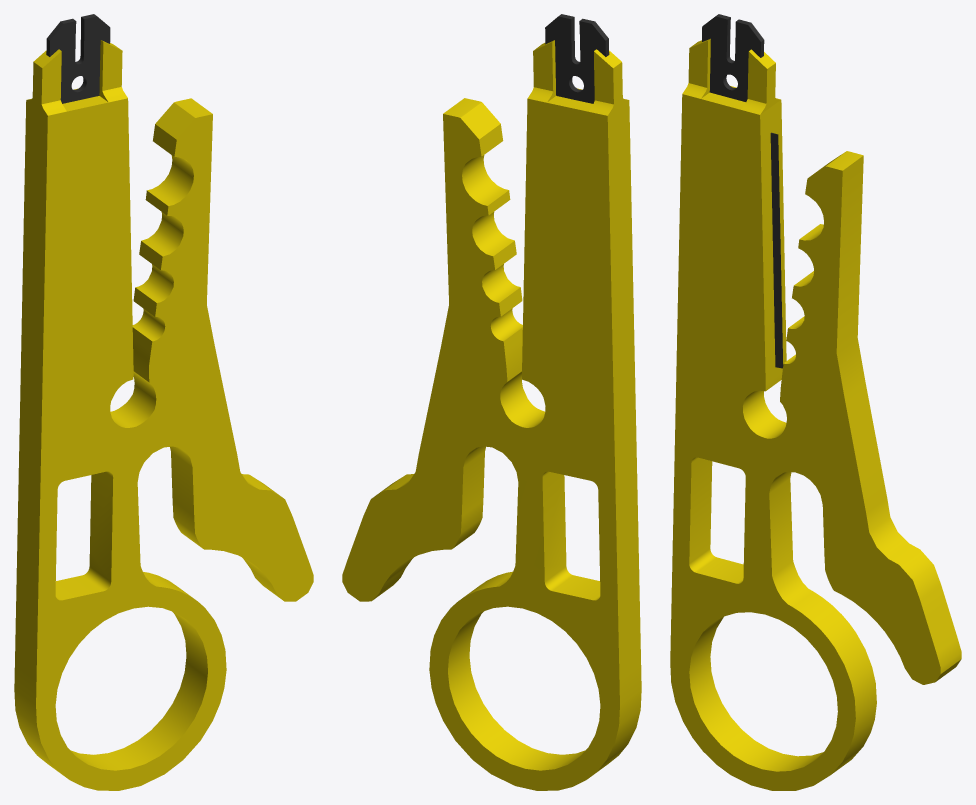
Rendered from Tool2.glb.
The picture shows the model from 3 angles, left to right: view 1: azimuth 30°, elevation 25°; view 2: azimuth 150°, elevation 25°; view 3: azimuth 330°, elevation 25°; orthographic projection. The views are drawn at different scales.
Parts seen in each view (by area): view 1: Wire Stripper.001; view 2: Wire Stripper.001; view 3: Wire Stripper.001.
Part boxes in pixels (x1,y1,x2,y2): Wire Stripper.001: [14, 14, 313, 790]; Wire Stripper.001: [342, 14, 641, 790]; Wire Stripper.001: [670, 14, 961, 790].
Size of the model in its own units: 0.0419 by 0.1112 by 0.006.
